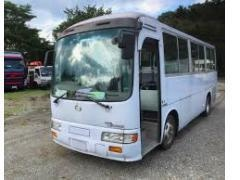bus: (46, 13, 218, 166)
